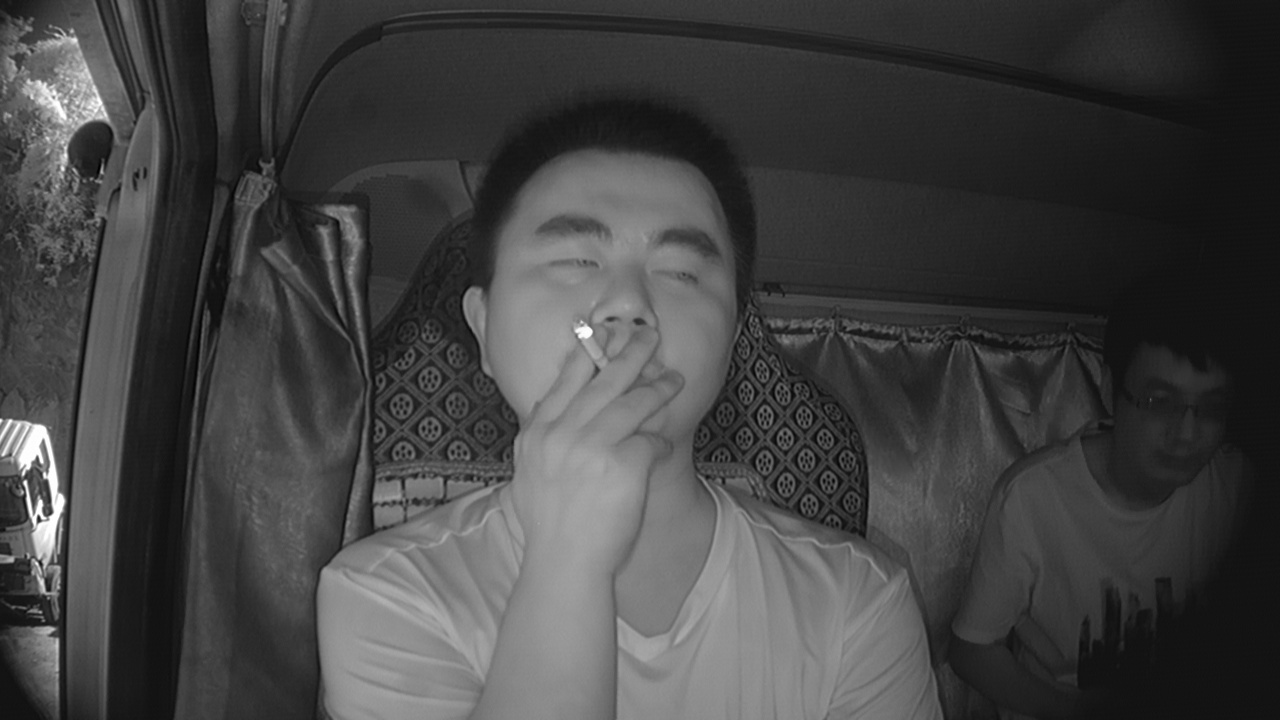hand: (512, 325, 686, 502)
